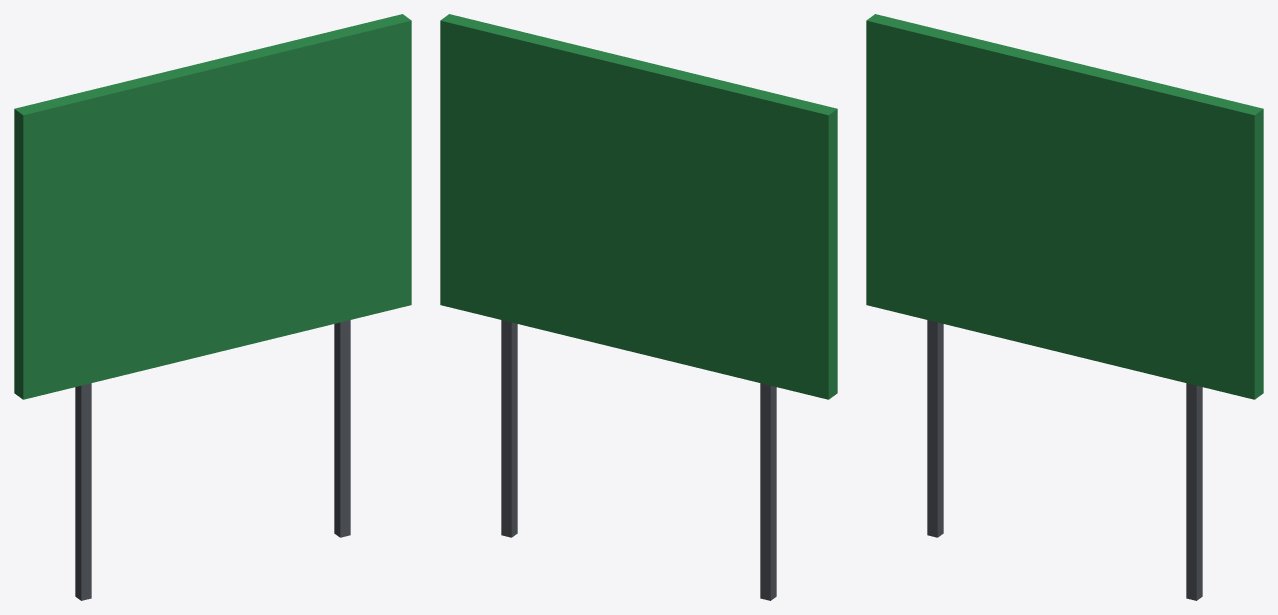
File: prop_yard_sign.glb
The picture shows the model from 3 angles, left to right: view 1: azimuth 30°, elevation 25°; view 2: azimuth 150°, elevation 25°; view 3: azimuth 330°, elevation 25°; orthographic projection.
Visible parts, largest first — view 1: prop_yard_sign; view 2: prop_yard_sign; view 3: prop_yard_sign.
Part boxes in pixels (left/top/right/bottom): prop_yard_sign: left=14, top=14, right=411, bottom=600; prop_yard_sign: left=440, top=14, right=837, bottom=600; prop_yard_sign: left=866, top=14, right=1263, bottom=600.
Size of the model in its own units: 0.6 by 0.74 by 0.024.
